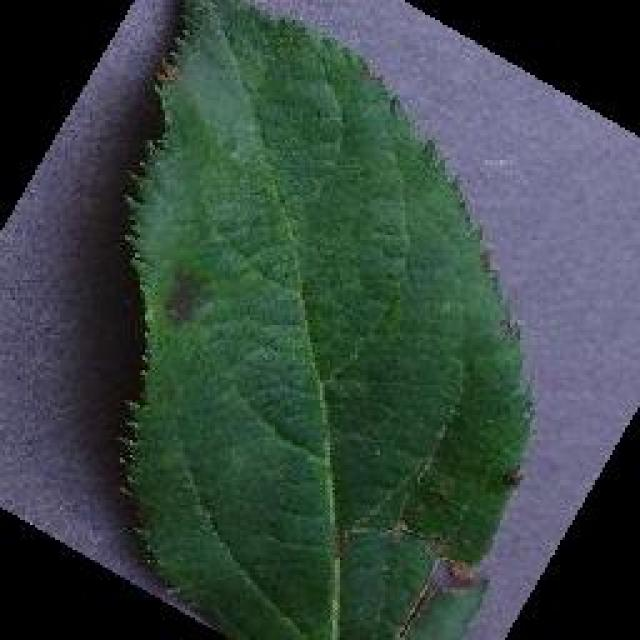apple scab disease: (113, 0, 535, 638)
